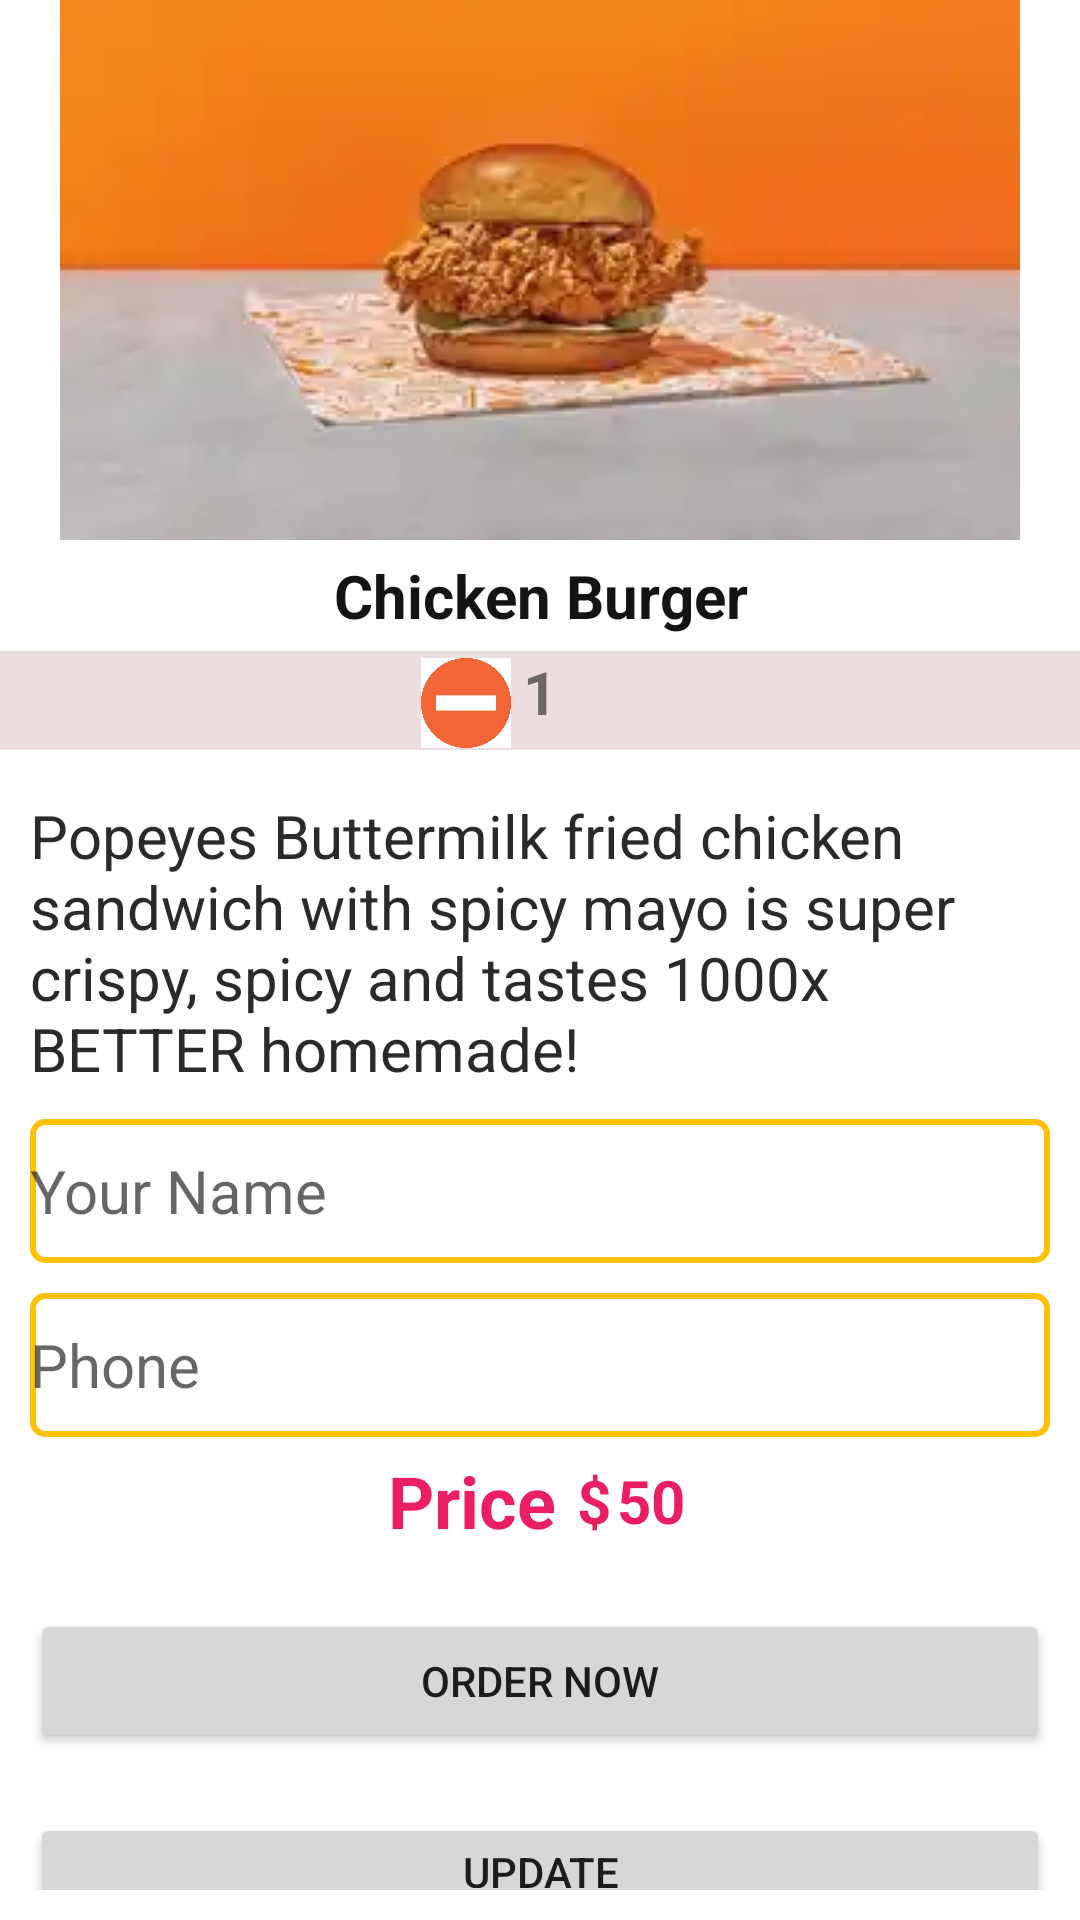

Locate icon controls on the screen. Image size 1080 × 1920, boxes as bbox(x1, y1, x2, y2).
minus: bbox(421, 658, 511, 748)
